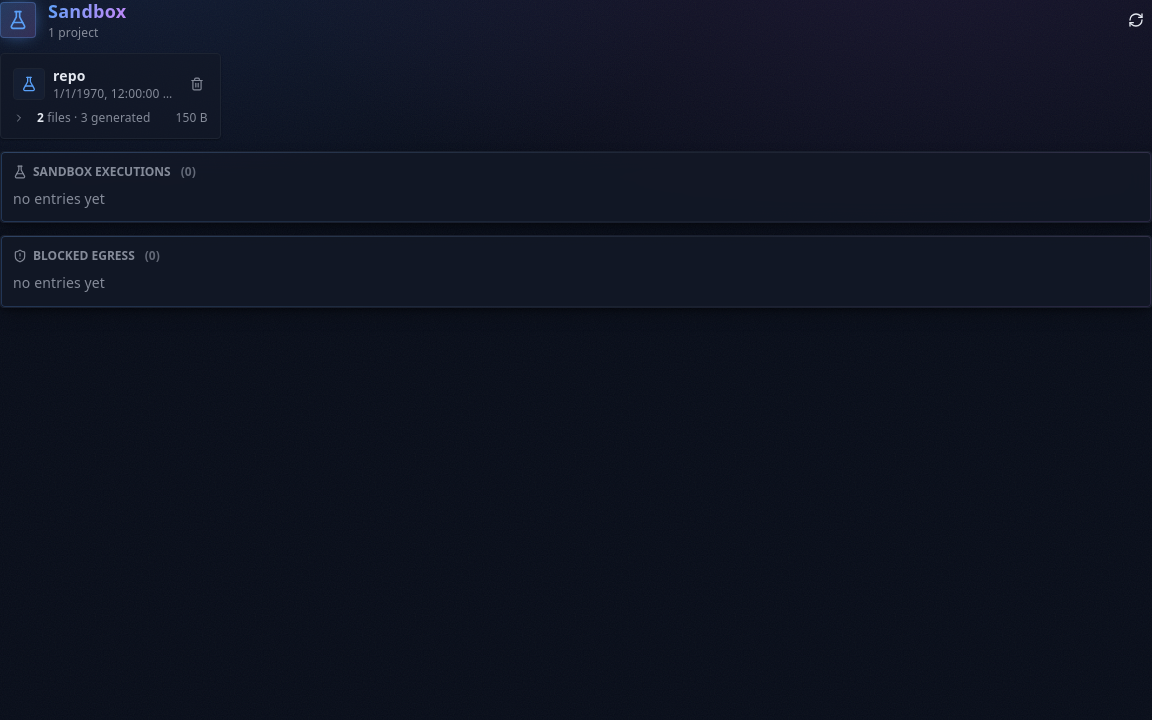
Scenario: Sandbox file browser › hides tool-generated files until asked
The width and height of the screenshot is (1152, 720).
What coordinates should you click on to do the following:
click the button "repo"
I would click on:
 (115, 76)
Its box is [53,66,178,86].
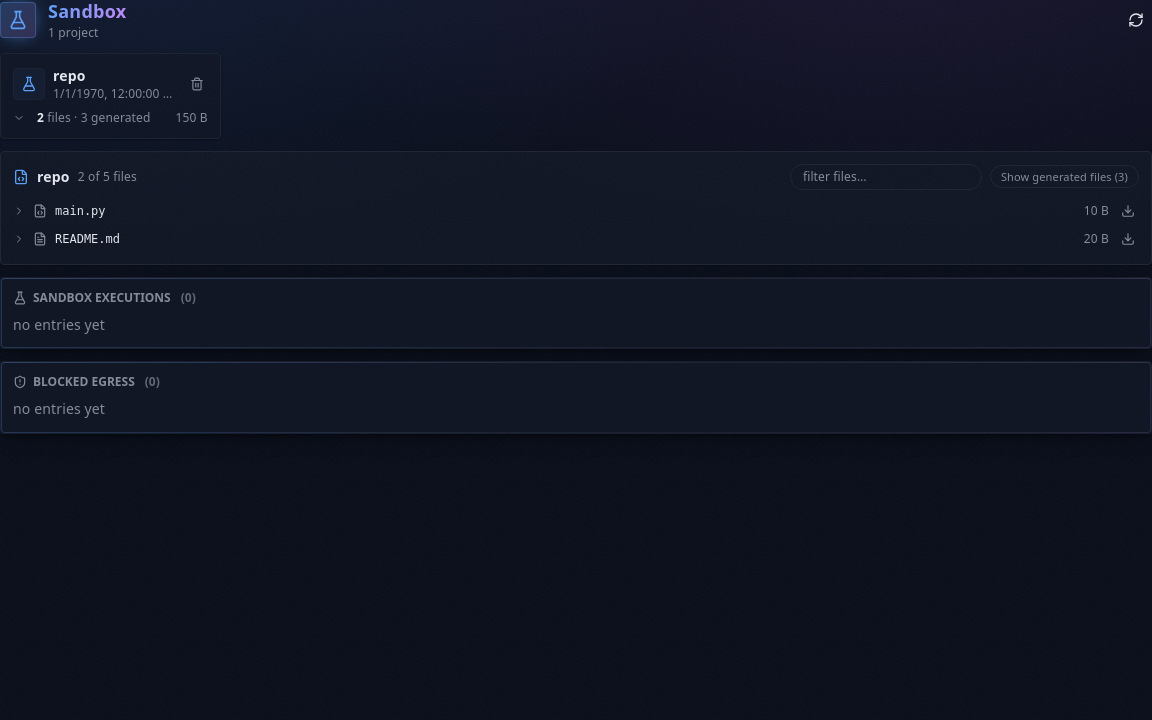
Expected: the text "main.py" is shown, [55,202,106,218]
Expected: the text "README.md" is shown, [55,230,120,246]
Expected: the text "2 of 5 files" is shown, [78,168,137,184]
What coordinates should you click on to do the following:
click the switch "Show generated files (3)"
I would click on:
 (1064, 176)
Its box is [990,165,1139,188].
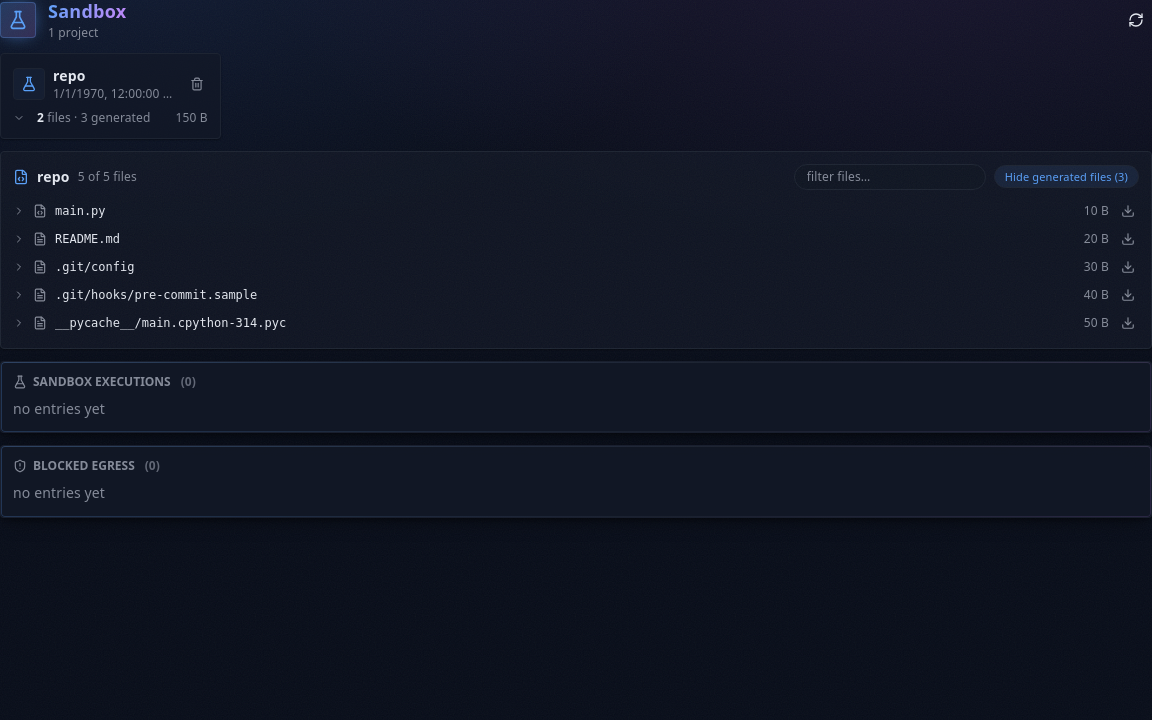
Expected: the text ".git/config" is shown, [55,258,134,274]
Expected: the text "5 of 5 files" is shown, [78,168,137,184]
